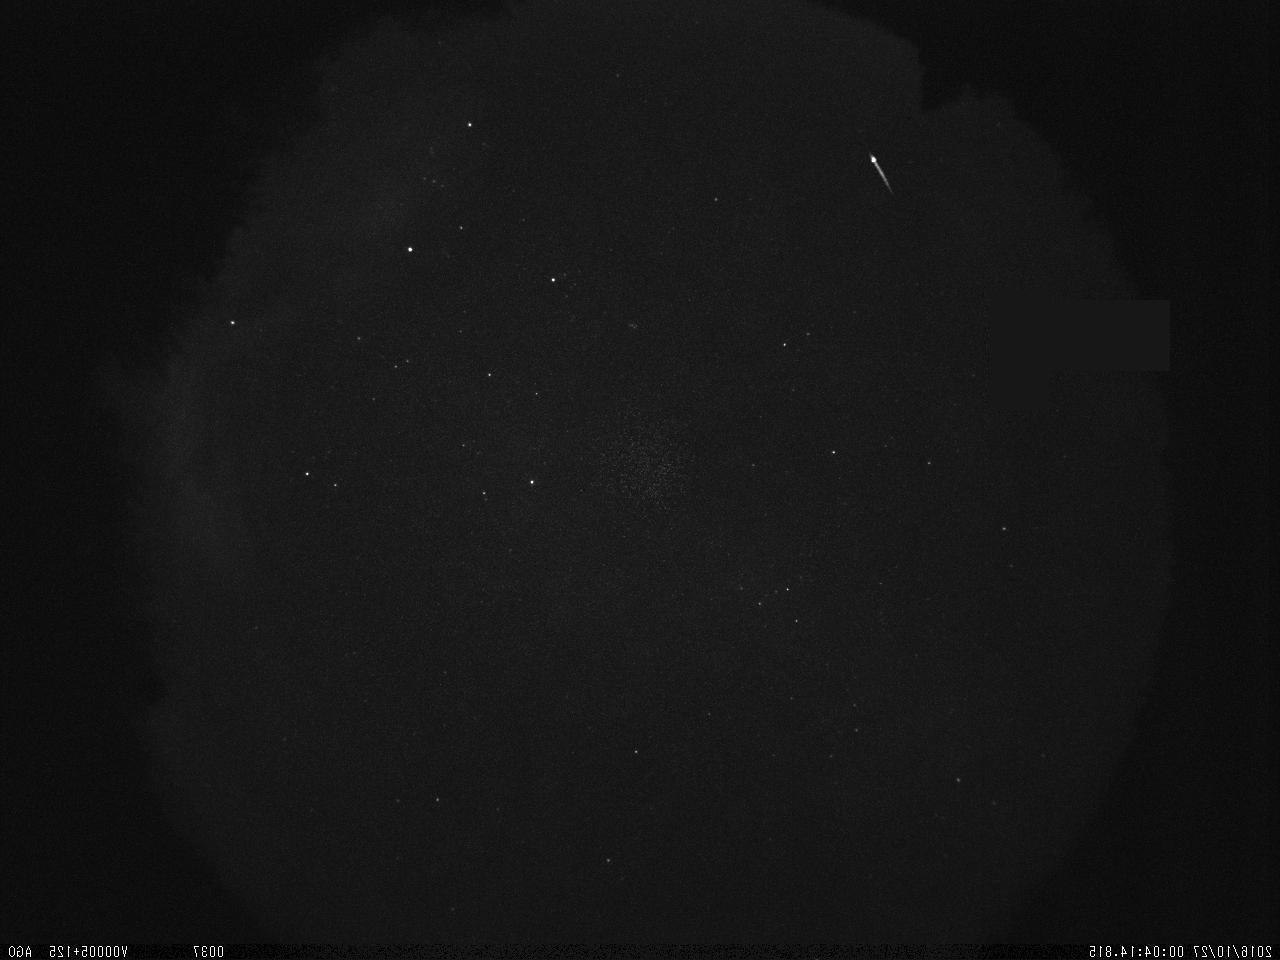meteor: (861, 138, 901, 227)
